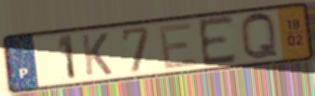1: (56, 33, 78, 84)
7: (119, 25, 152, 75)
E: (195, 13, 239, 69), (157, 20, 200, 71)
K: (79, 31, 115, 78)
Q: (238, 11, 281, 63)
